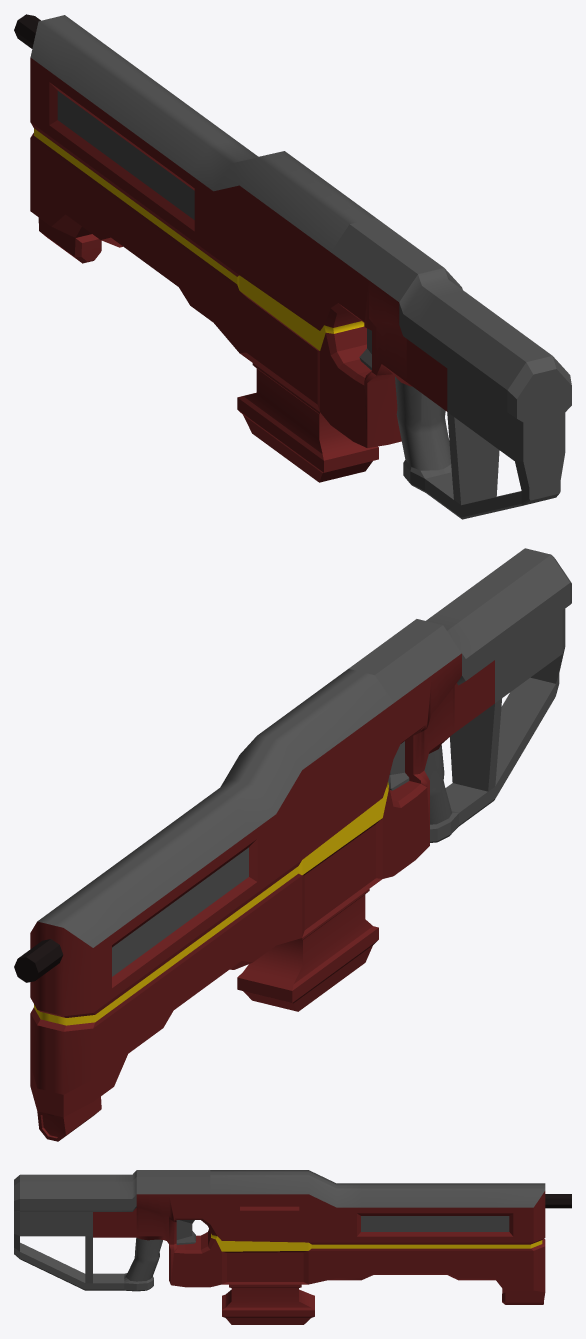
The picture shows the model from 3 angles, top to bottom: view 1: azimuth 30°, elevation 25°; view 2: azimuth 150°, elevation 25°; view 3: azimuth 270°, elevation 25°; orthographic projection. The views are drawn at different scales.
Visible parts, largest first — view 1: pCylinder33; view 2: pCylinder33; view 3: pCylinder33.
Part boxes in pixels (left/top/right/bottom): pCylinder33: left=14, top=14, right=571, bottom=519; pCylinder33: left=14, top=548, right=571, bottom=1141; pCylinder33: left=14, top=1170, right=571, bottom=1324.
Size of the model in its own units: 0.5099 by 2.1 by 7.3.
